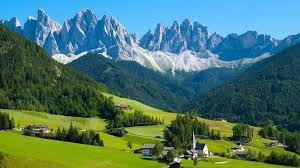field: (7, 113, 290, 168)
mountain: (9, 15, 300, 123)
